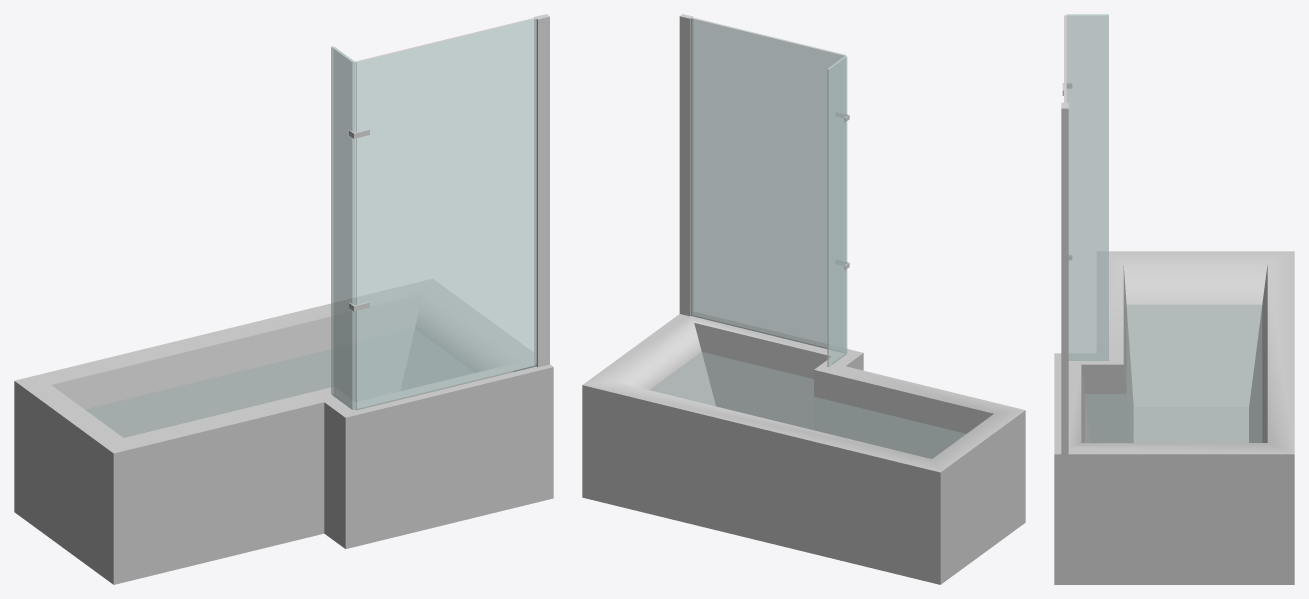
File: bath_L.glb
3 renders of one model, left to right at view 1: azimuth 30°, elevation 25°; view 2: azimuth 150°, elevation 25°; view 3: azimuth 270°, elevation 25°, orthographic. The views are drawn at different scales.
Parts seen in each view (by area): view 1: bath_L; view 2: bath_L; view 3: bath_L.
Part boxes in pixels (x1,y1,x2,y2): bath_L: (14, 14, 553, 584); bath_L: (582, 14, 1025, 584); bath_L: (1054, 14, 1294, 584).
Size of the model in its own units: 1.7 by 1.86 by 0.85.
